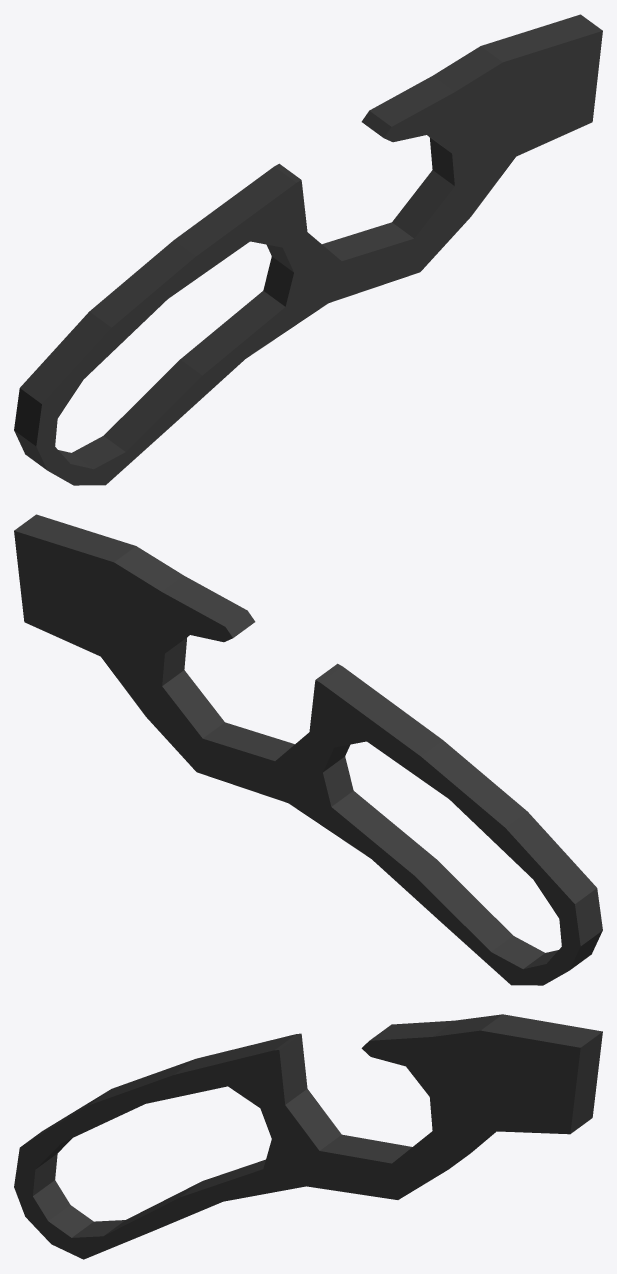
Rendered from SniperRifle5_01_2.fbx.
3 views of the same model, one above another, from view 1: azimuth 30°, elevation 25°; view 2: azimuth 150°, elevation 25°; view 3: azimuth 330°, elevation 25° (orthographic).
Parts seen in each view (by area): view 1: SniperRifle5_01_2; view 2: SniperRifle5_01_2; view 3: SniperRifle5_01_2.
Boxes of the visible parts, box(x1,y1,x2,y2) form: SniperRifle5_01_2: box(14, 14, 602, 485); SniperRifle5_01_2: box(14, 514, 602, 985); SniperRifle5_01_2: box(14, 1014, 602, 1259).
Size of the model in its own units: 0.175 by 0.0983 by 0.0119.
